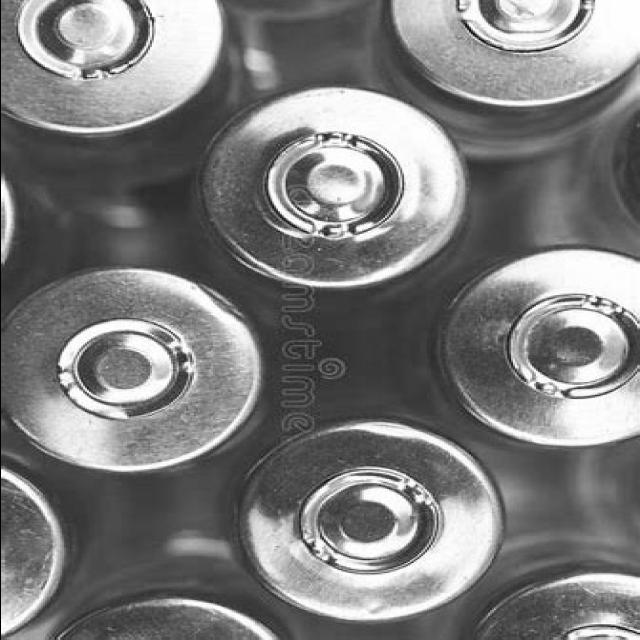vial: (251, 418, 496, 630), (237, 100, 442, 271), (458, 250, 640, 436), (1, 0, 220, 150), (49, 284, 248, 436), (458, 554, 640, 640), (44, 595, 286, 640), (0, 480, 57, 640), (0, 163, 39, 279), (623, 97, 640, 217)
